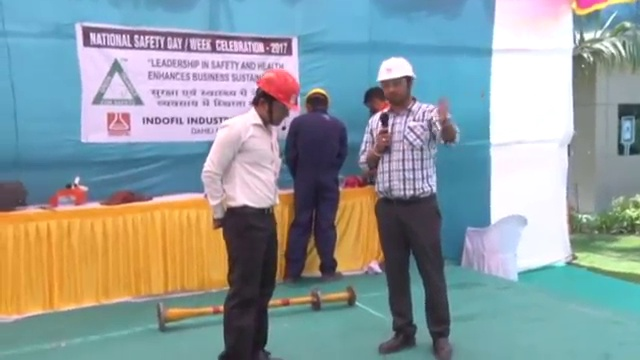helmet: (255, 67, 302, 111), (374, 55, 418, 82), (304, 86, 332, 105)
helmet_off: (360, 85, 390, 113)
helmet_on: (247, 67, 304, 132), (374, 53, 422, 116), (301, 84, 332, 117)
person: (359, 56, 463, 358), (202, 67, 301, 360), (285, 84, 351, 283)
